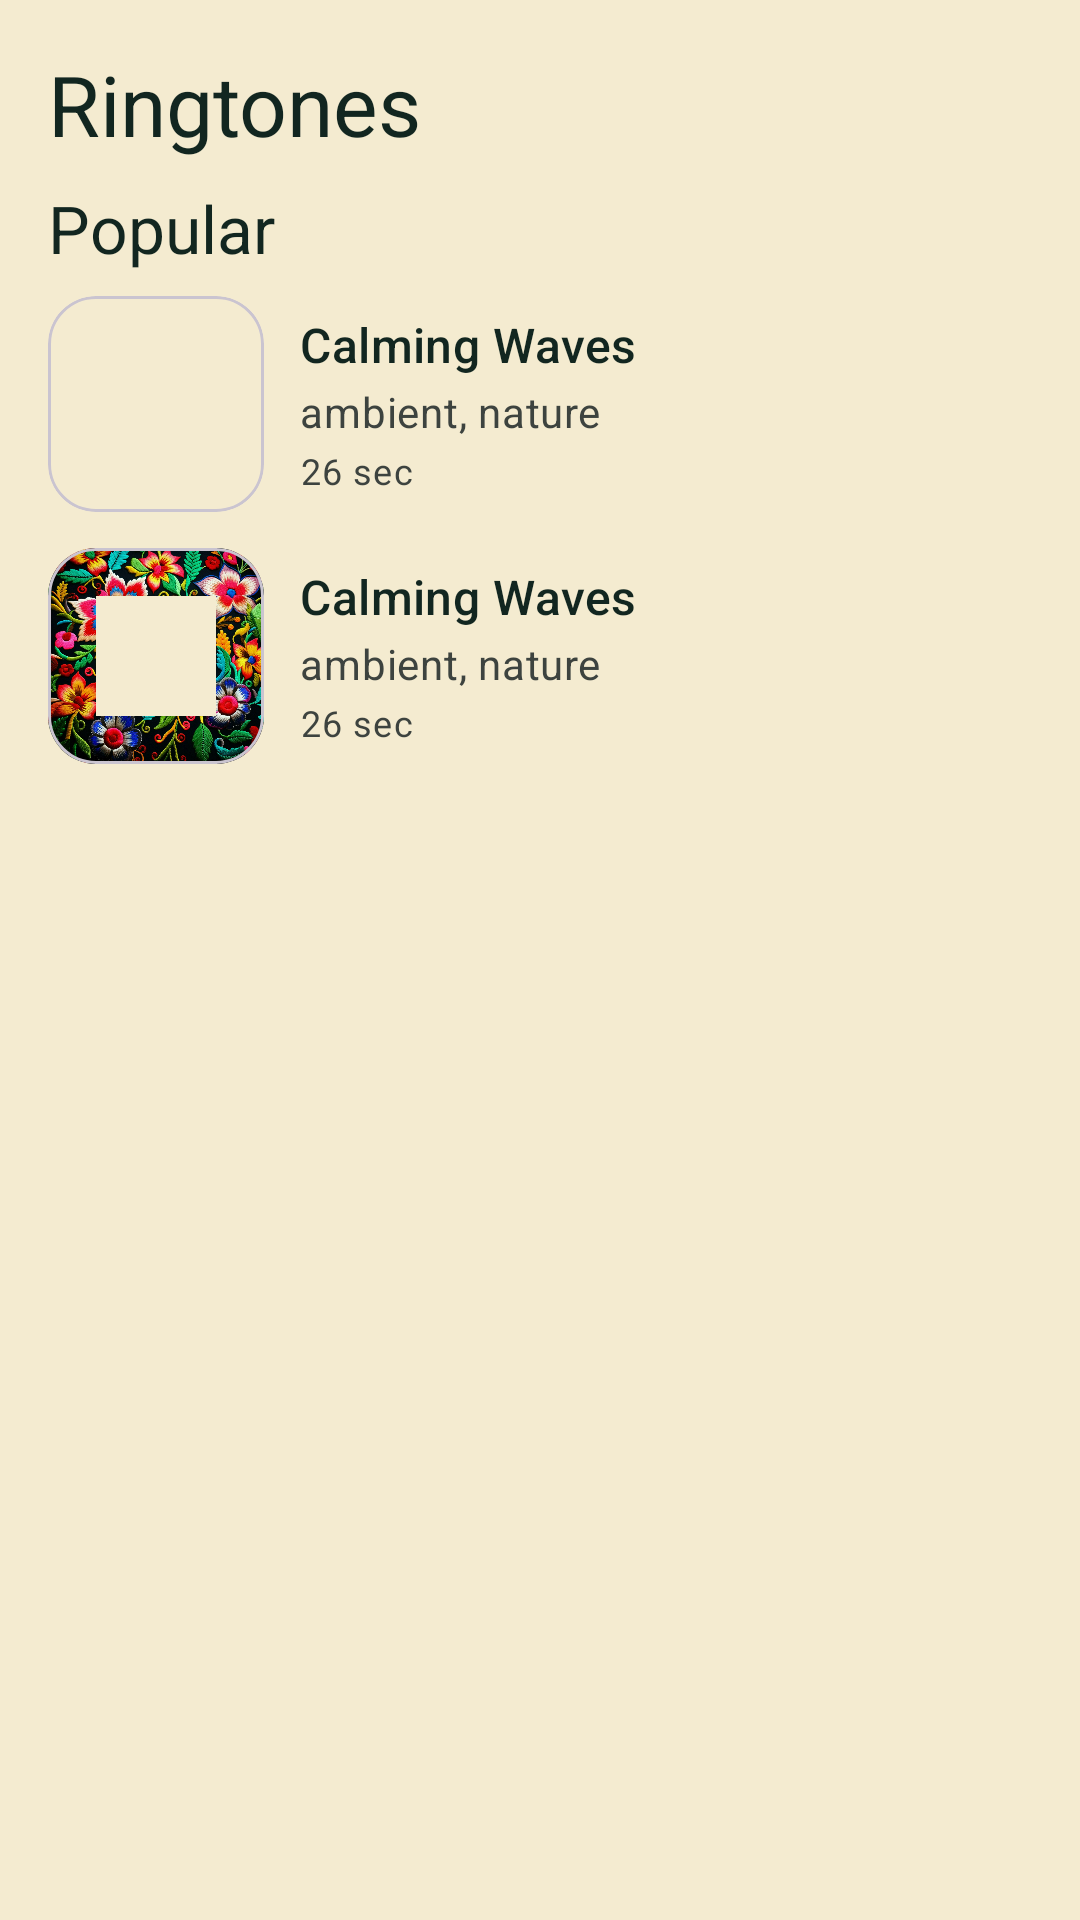

Icons on this 1080*1920 Android screen, each with its box as (x1, y1, x2, y2):
embroideryart: (48, 548, 264, 764)
